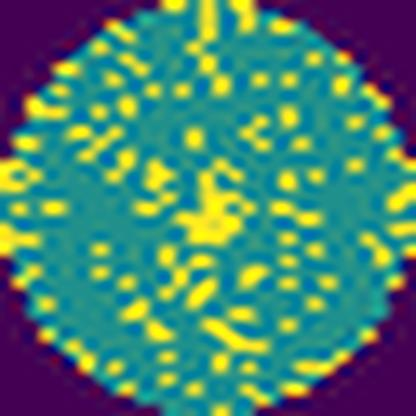Center: (173, 160, 268, 249)
